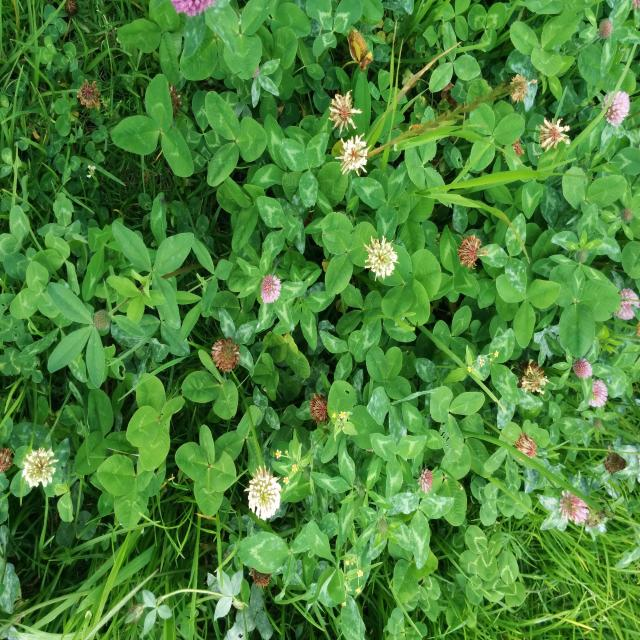Four Leaf Clover: (377, 243, 441, 326)
